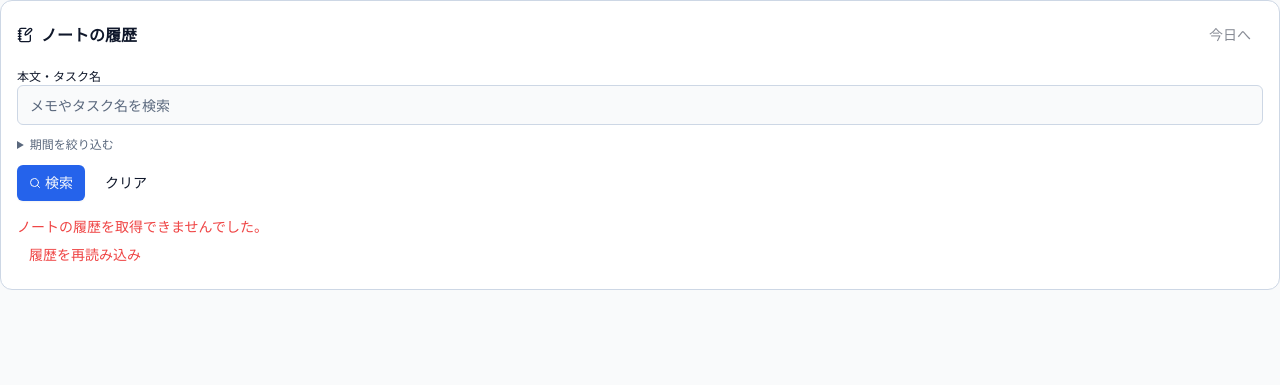
keeps history disabled during date transitions and offers retry after failures
The image size is (1280, 385).
Expected: the message shows "ノートの履歴を取得できませんでした", [17,218,268,235]
Click the button "履歴を再読み込み".
click(85, 255)  # box [17,237,153,273]
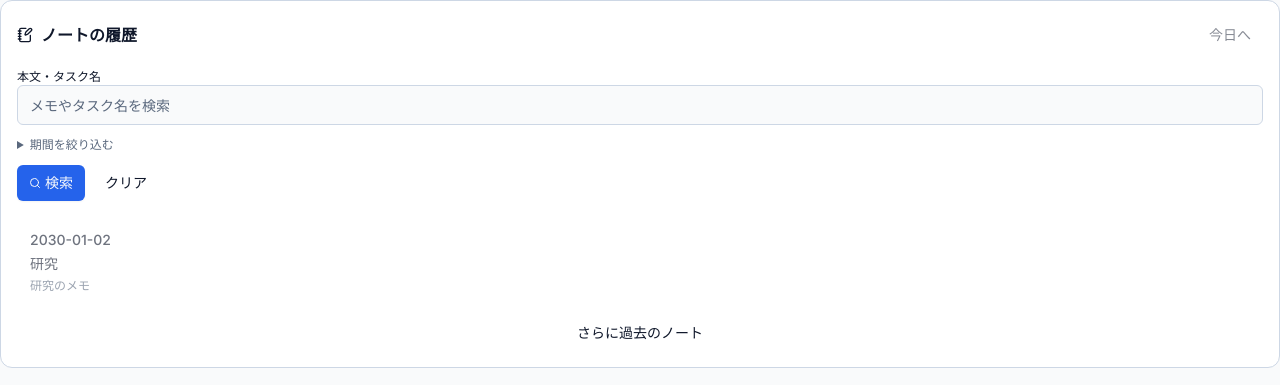
Expected: the button "今日へ" is disabled, [1197,17,1263,53]
Result: the button "2030-01-02 研究" is disabled at [17,217,1263,307]
